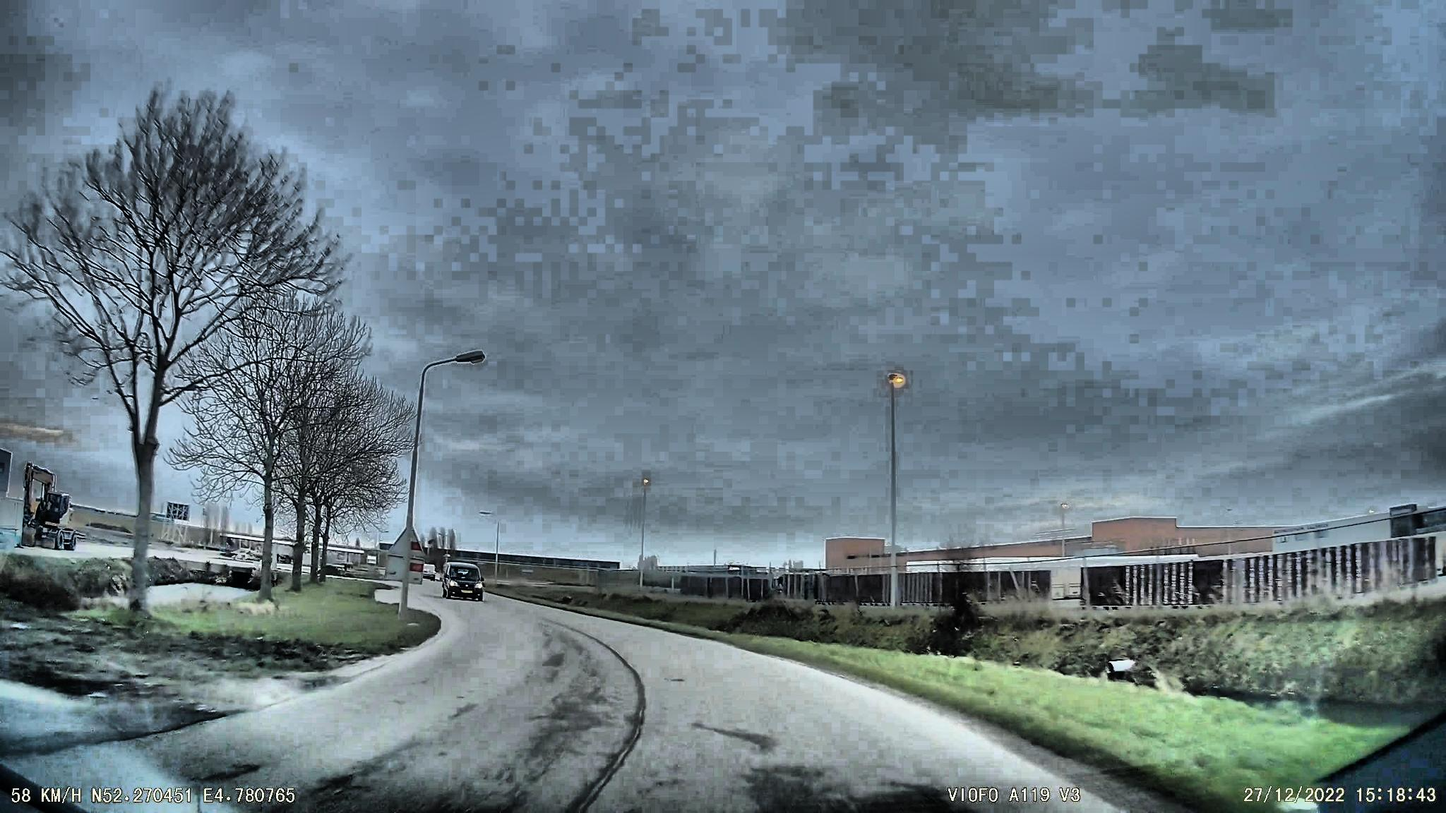Roads: (0, 579, 1199, 813)
